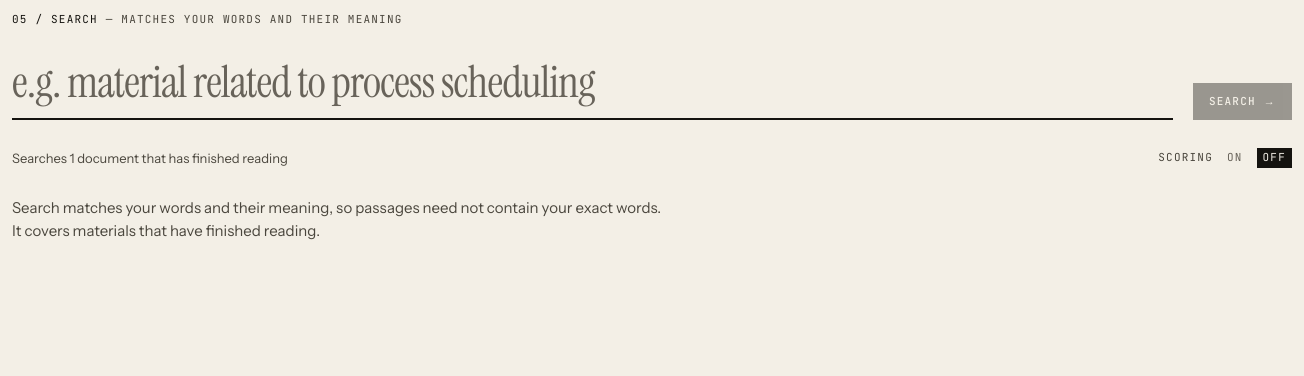
Test: Search › leaves out waiting for documents when every one has been read
The width and height of the screenshot is (1304, 376).
Type "buddy allocator" into the search field named "Search this environment's materials" at (592, 88), box x1=12 y1=55 x2=1173 y2=120
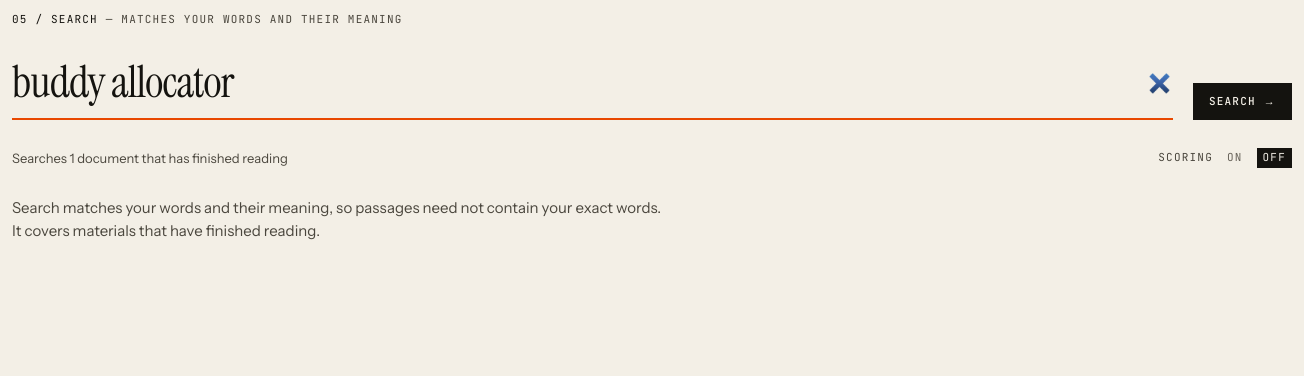
Click the button "Search →" at (1242, 102), box x1=1193 y1=83 x2=1292 y2=120
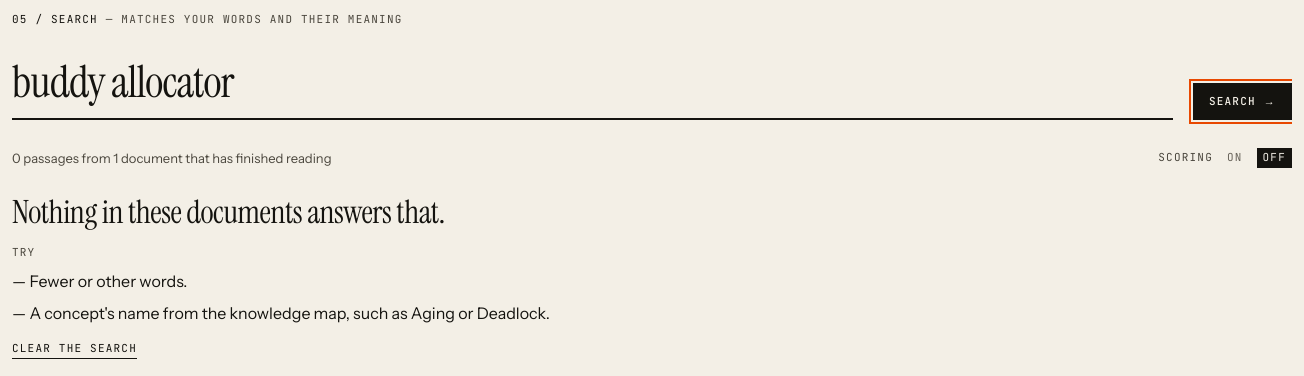
Result: the heading "Nothing in these documents answers that." is shown at x1=12 y1=196 x2=445 y2=229
